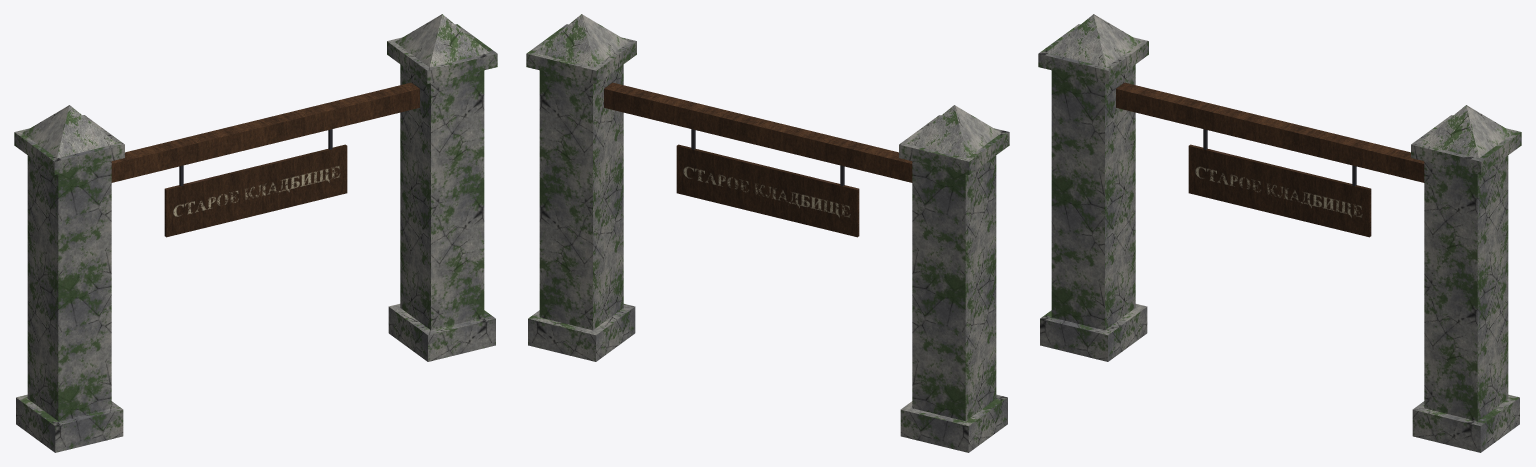
Rendered from gate_stone_a.glb.
3 views of the same model, side by side, from view 1: azimuth 30°, elevation 25°; view 2: azimuth 150°, elevation 25°; view 3: azimuth 330°, elevation 25° (orthographic).
Parts seen in each view (by area): view 1: gate_stone_a; view 2: gate_stone_a; view 3: gate_stone_a.
Boxes of the visible parts, <box> form: gate_stone_a: <box>14,14,497,452</box>; gate_stone_a: <box>526,14,1009,452</box>; gate_stone_a: <box>1038,14,1521,452</box>.
Size of the model in its own units: 4.16 by 2.92 by 0.6599.
4 materials, 3 textured.
